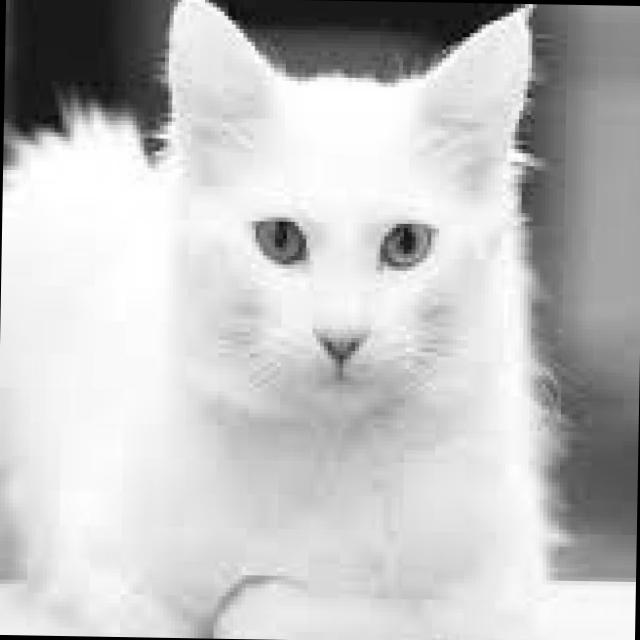van: (130, 0, 543, 426)
